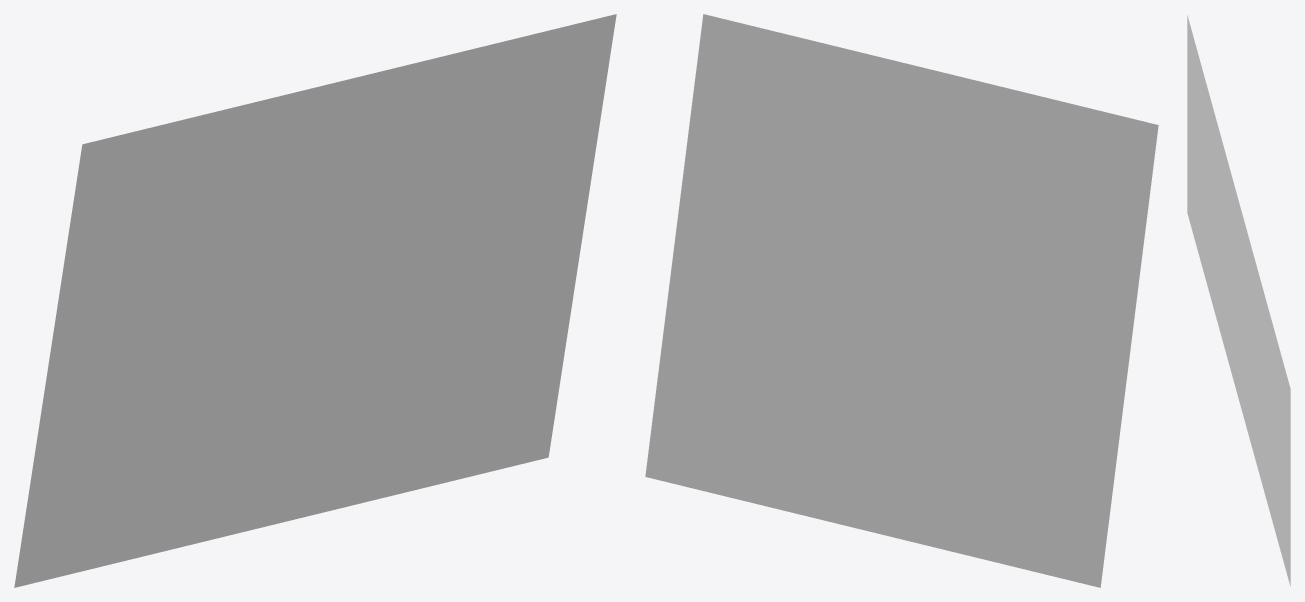
Rendered from primary_111.glb.
3 renders of one model, left to right at view 1: azimuth 30°, elevation 25°; view 2: azimuth 150°, elevation 25°; view 3: azimuth 270°, elevation 25°, orthographic. The views are drawn at different scales.
Visible parts, largest first — view 1: Object; view 2: Object; view 3: Object.
Boxes of the visible parts, x1=… form: Object: x1=14, y1=14, x2=616, y2=587; Object: x1=645, y1=14, x2=1158, y2=587; Object: x1=1187, y1=15, x2=1290, y2=586.
Size of the model in its own units: 2.18 by 1.92 by 0.4805.
1 material, 1 textured.
